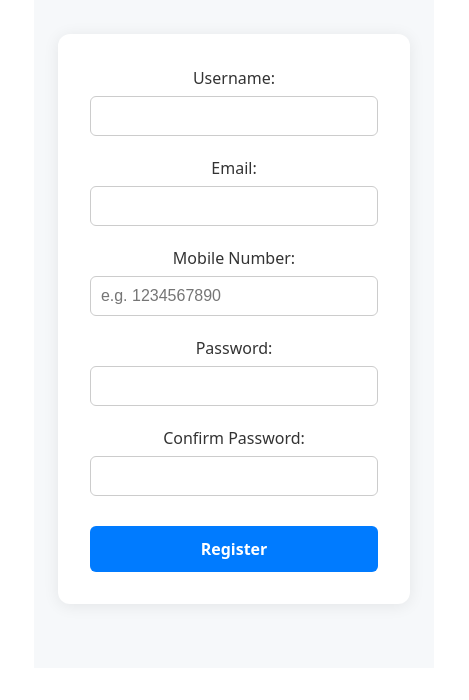
RegisterPage › shows validation errors when submitting empty form
(page scrolled)
Click the button "Register" at x=234, y=549, box [90, 526, 378, 572]
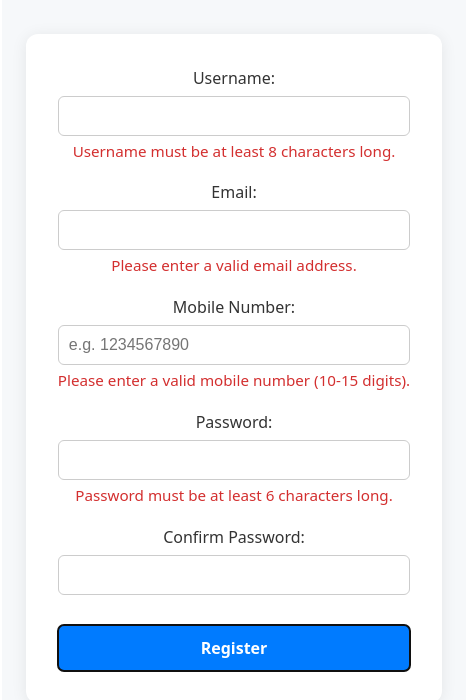
Now the text "Username must be at least 8 characters long." is shown, box [58, 140, 410, 162]
Now the text "Please enter a valid email address." is shown, box [111, 255, 357, 275]
Now the text "Please enter a valid mobile number (10-15 digits)." is shown, box [58, 369, 410, 392]
